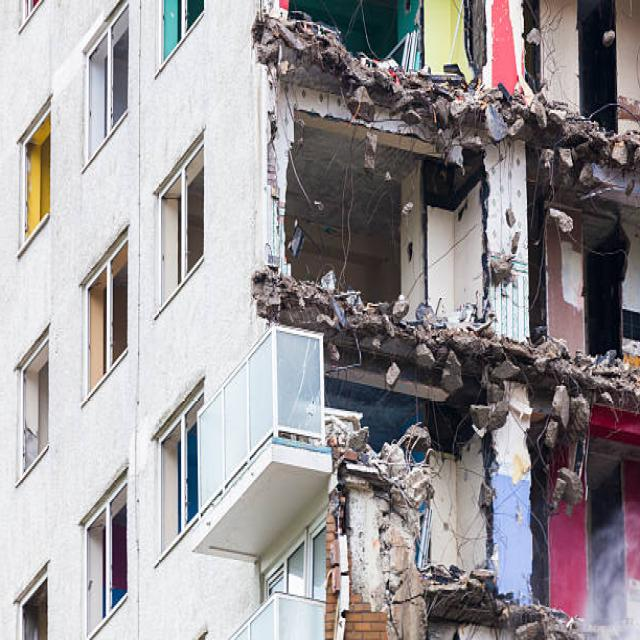Destroyed_building: (185, 3, 640, 639)
